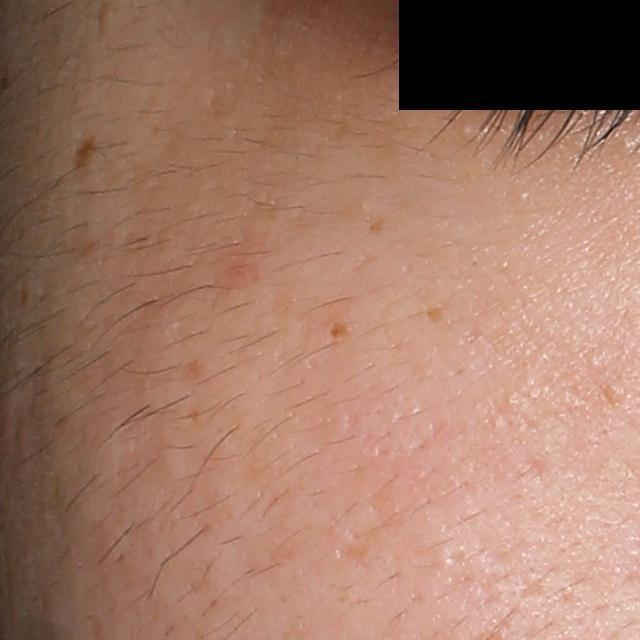melasma: (329, 317, 355, 340), (423, 303, 444, 325), (364, 215, 384, 236)
nevus: (70, 137, 100, 173)
